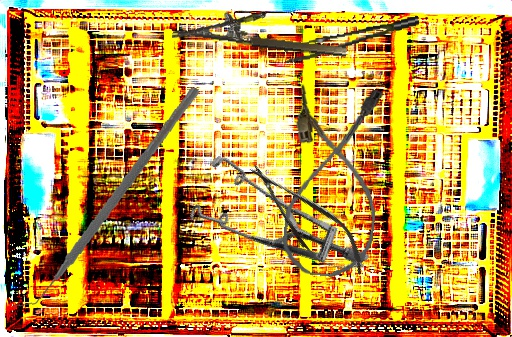Cannula: (279, 82, 389, 281)
Chopper: (9, 73, 201, 322)
Micro Scissor: (235, 150, 378, 290)
Needle Holder: (171, 1, 351, 60)
Speculum: (170, 116, 370, 328)
Tissue Forceps: (282, 16, 422, 63)
